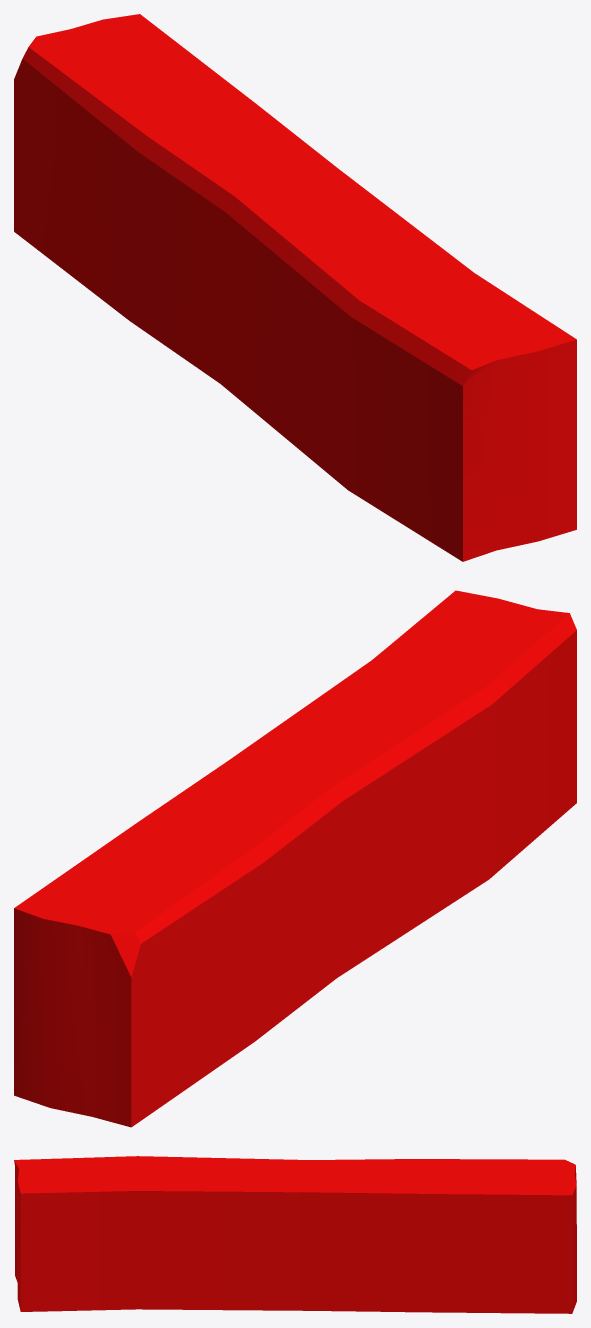
The model's file is Stone_L.fbx.
3 views of the same model, one above another, from view 1: azimuth 30°, elevation 25°; view 2: azimuth 150°, elevation 25°; view 3: azimuth 270°, elevation 25° (orthographic). The views are drawn at different scales.
Visible parts, largest first — view 1: Stone_L; view 2: Stone_L; view 3: Stone_L.
Boxes of the visible parts, bbox=[...] form: Stone_L: bbox=[14, 14, 576, 561]; Stone_L: bbox=[14, 590, 576, 1127]; Stone_L: bbox=[14, 1156, 576, 1313].
Bounding box in the file's own units: 47.76 × 63.24 × 272.
